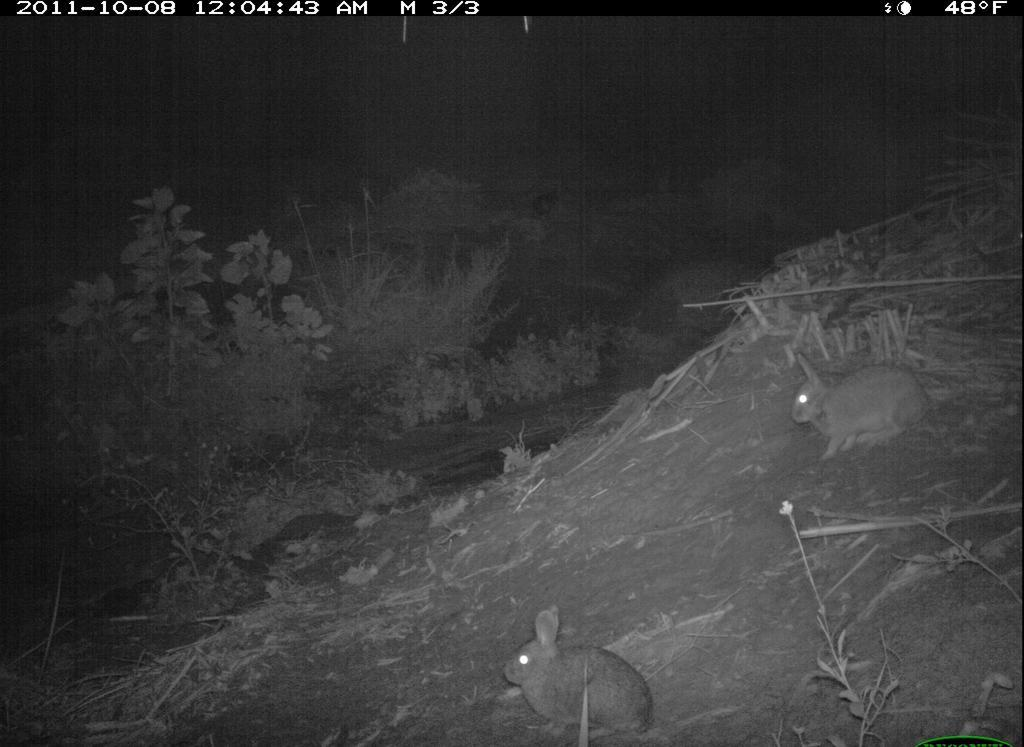rabbit: (489, 600, 667, 744), (785, 342, 937, 465)
